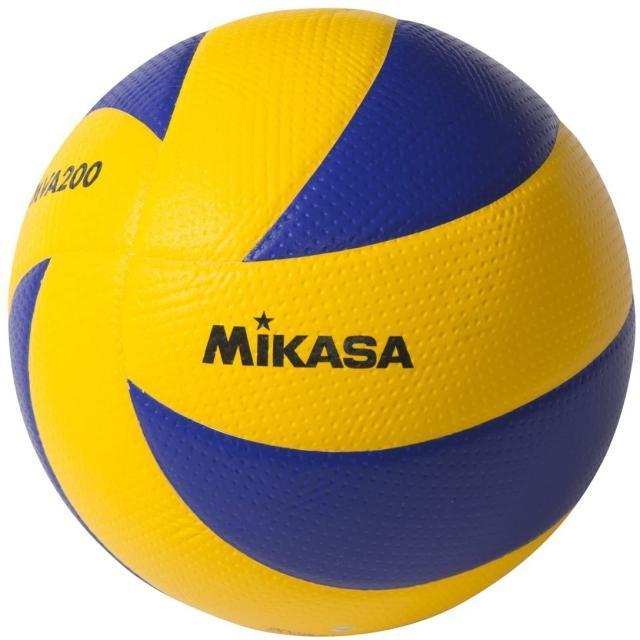volleyball: (9, 8, 636, 639)
